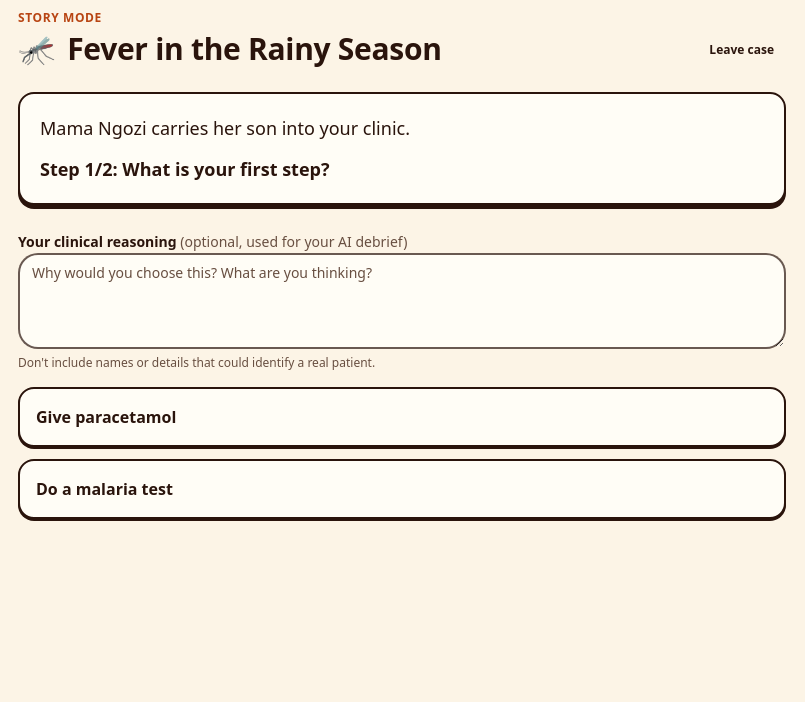
clinical gameplay › plays step by step with reasoning, reveals feedback only after answering, and shows the result
The image size is (805, 702).
Check: the text "Step 1/2: What is your first step?" is shown, box [40,157,330,181]
Check: the text "Test before treating." is not shown
Type "Fever in a malaria area" into the text box labelled "Your clinical reasoning (optional, used for your AI debrief)" at (402, 301), box [18,253,786,349]
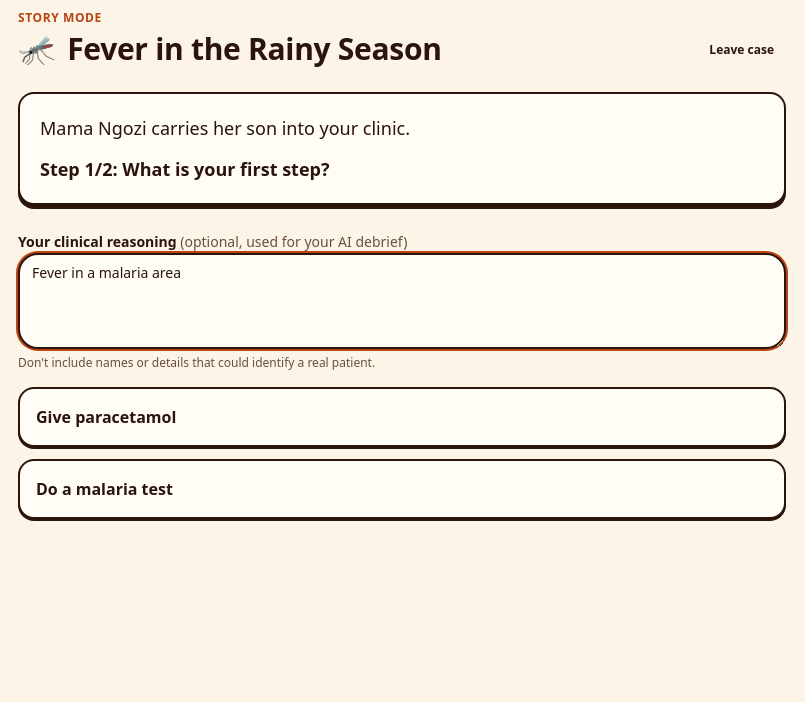
Click the button "Do a malaria test" at (104, 489), box [18,459,786,519]
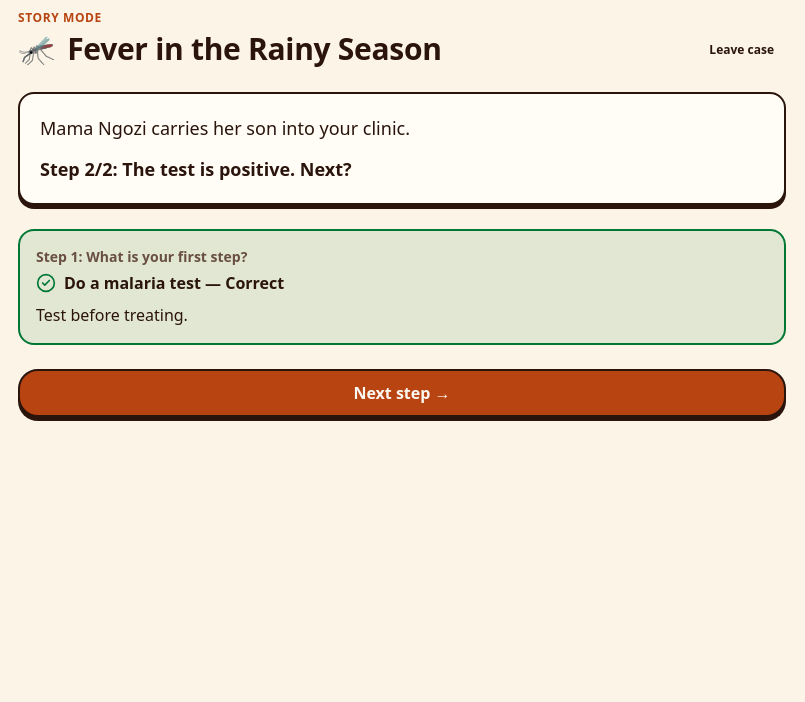
Check: the button "Give ACT" is not shown
Check: the text "Test before treating." is shown, box [36,304,188,326]
Click the button "Next step →" at (402, 393), box [18,369,786,417]
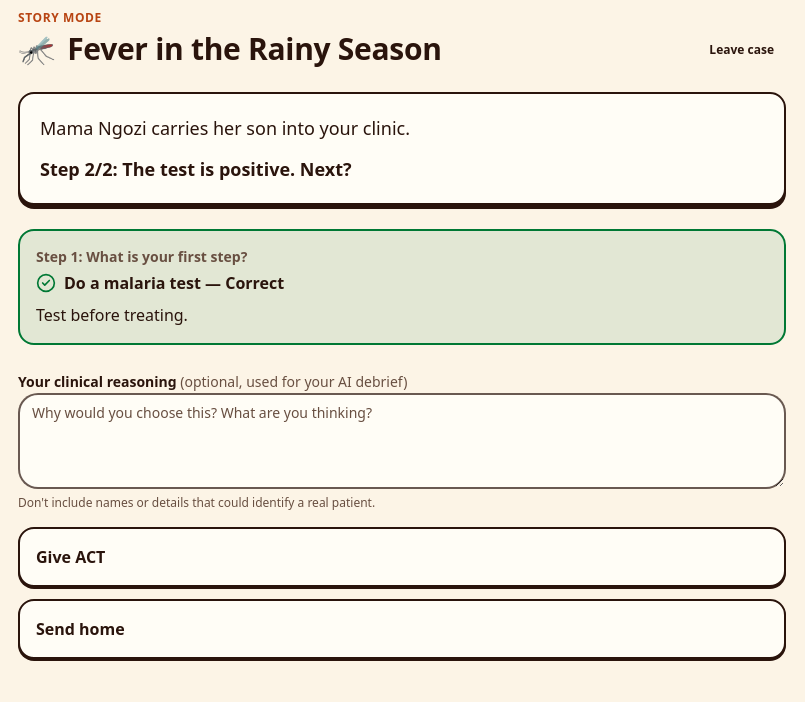
Click the button "Give ACT" at (71, 557), box [18,527,786,587]
(page scrolled)
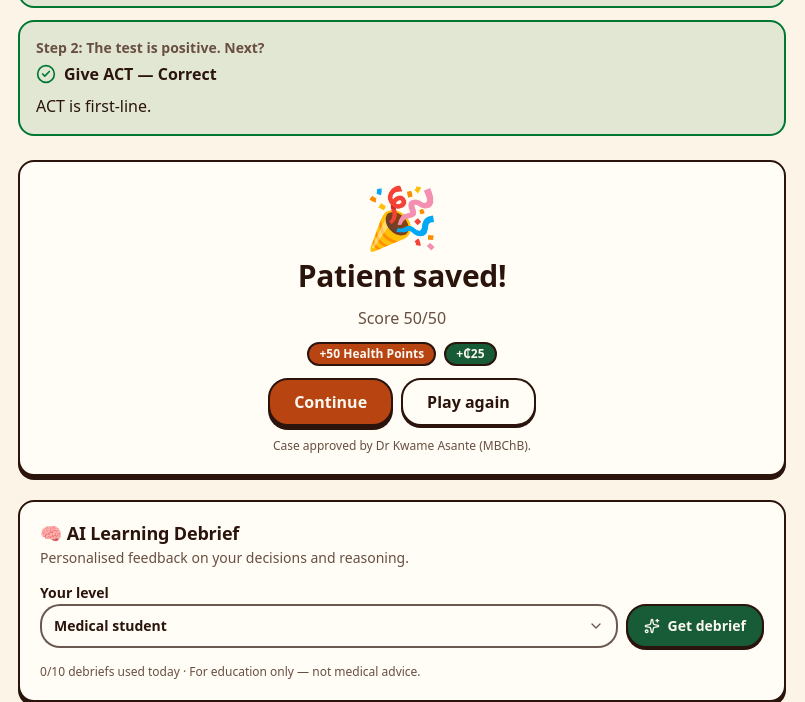
Check: the heading "Patient saved!" is shown, box [298,255,506,296]
Check: the text "+50 Health Points" is shown, box [308,342,436,366]
Check: the text "Case approved by Dr Kwame Asante (MBChB)." is shown, box [273,437,531,454]
